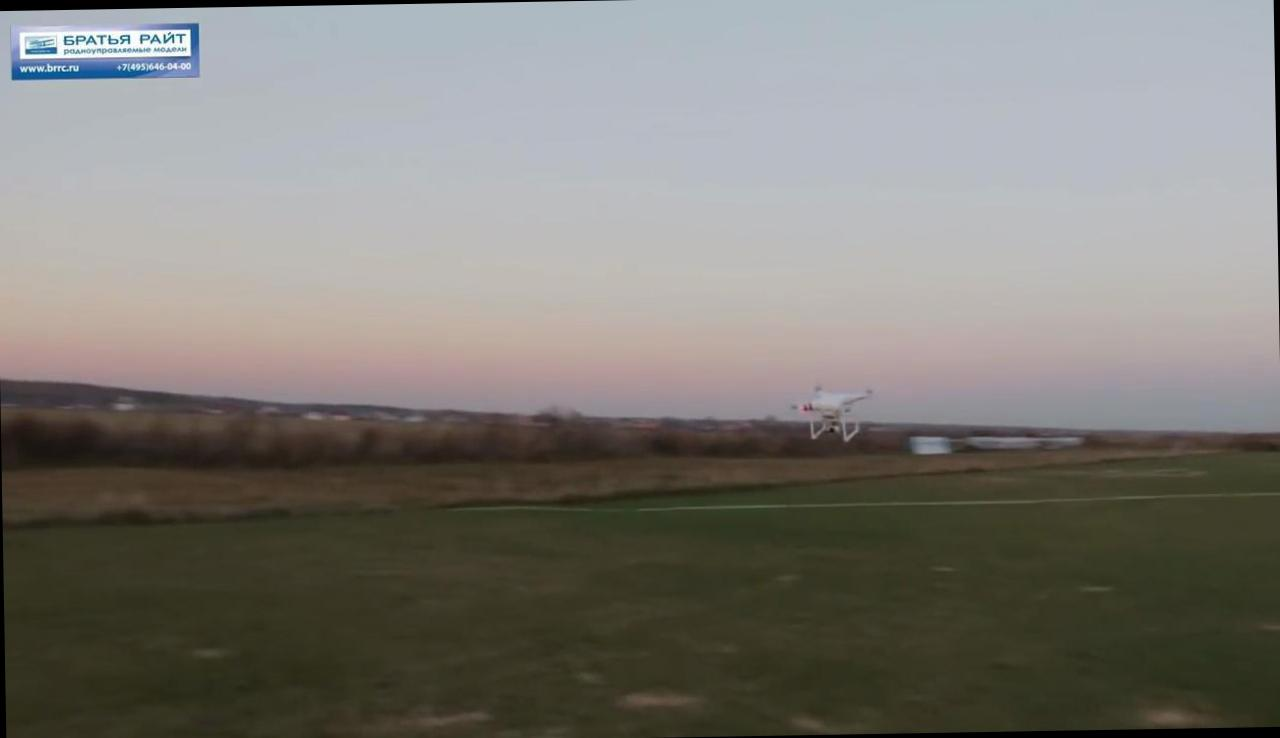drone: (784, 375, 874, 446)
